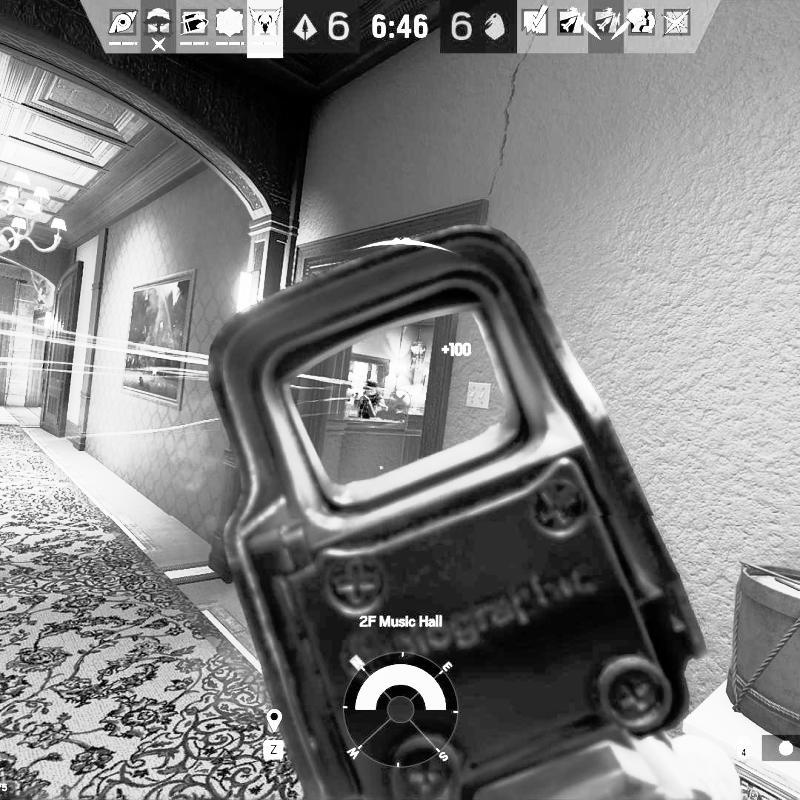Character: (350, 379, 388, 420)
Head: (363, 380, 377, 395)
